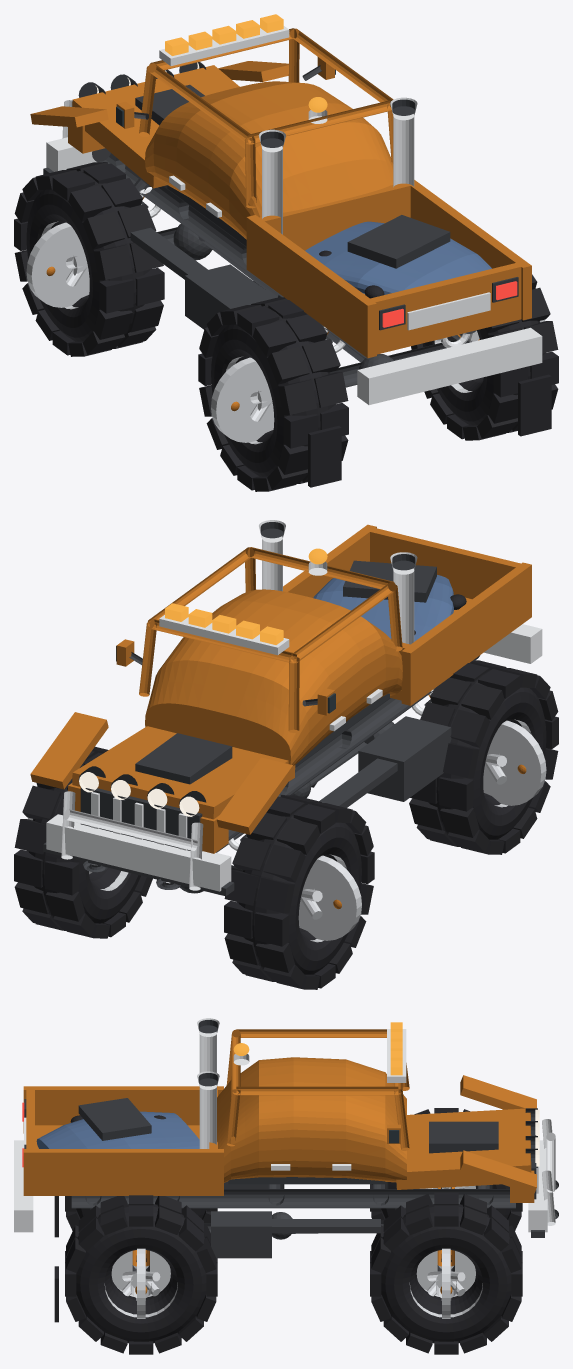
The model's file is crushtitan_monster_truck.glb.
3 views of the same model, one above another, from view 1: azimuth 30°, elevation 25°; view 2: azimuth 150°, elevation 25°; view 3: azimuth 270°, elevation 25° (orthographic). The views are drawn at different scales.
Visible parts, largest first — view 1: cab_shell, bed_wall_-1.0, rear_bumper, tailgate, junk_car_body, f_l_tire, r_l_tire, hood, bed_front_wall, bed_wall_+1.0, f_l_rim_face, r_l_rim_face (+48 smaller); view 2: cab_shell, bed_wall_-1.0, front_bumper, hood, f_l_tire, fuel_tank, r_l_tire, tailgate, r_l_rim_face, f_l_rim_face, hood_scoop, fender_flare_f_-1.0 (+49 smaller); view 3: cab_shell, f_r_tire, r_r_tire, bed_wall_+1.0, hood, rail_r, bed_wall_-1.0, junk_car_body, battery_box, junk_glass, hood_scoop, fender_flare_f_+1.0 (+33 smaller).
Part boxes in pixels (x1,y1,x2,y2): cab_shell: (145, 81, 393, 239); bed_wall_-1.0: (246, 215, 376, 358); rear_bumper: (357, 327, 542, 404); tailgate: (361, 262, 527, 356); junk_car_body: (305, 221, 491, 294); f_l_tire: (26, 171, 151, 342); r_l_tire: (211, 306, 335, 476); hood: (72, 65, 239, 188); bed_front_wall: (250, 183, 410, 275); bed_wall_+1.0: (410, 180, 531, 320); f_l_rim_face: (26, 222, 89, 307); r_l_rim_face: (211, 357, 274, 442); cab_shell: (145, 589, 402, 765); bed_wall_-1.0: (401, 562, 531, 705); front_bumper: (46, 814, 231, 891); hood: (72, 726, 295, 819); f_l_tire: (237, 804, 361, 974); fuel_tank: (358, 716, 451, 801); r_l_tire: (428, 669, 546, 840); tailgate: (361, 526, 528, 599); r_l_rim_face: (483, 720, 546, 805); f_l_rim_face: (298, 855, 361, 940); hood_scoop: (135, 733, 232, 784); fender_flare_f_-1.0: (216, 757, 294, 834); cab_shell: (217, 1057, 406, 1182); f_r_tire: (381, 1204, 511, 1343); r_r_tire: (76, 1204, 206, 1343); bed_wall_+1.0: (23, 1149, 223, 1195); hood: (396, 1108, 531, 1189); rail_r: (71, 1189, 515, 1208); bed_wall_-1.0: (23, 1086, 223, 1133); junk_car_body: (36, 1111, 199, 1148); battery_box: (211, 1211, 271, 1258); junk_glass: (78, 1098, 151, 1140); hood_scoop: (429, 1121, 498, 1153); fender_flare_f_+1.0: (460, 1150, 536, 1194).
Bounding box in the file's own units: 3.62 × 3.25 × 6.25.
